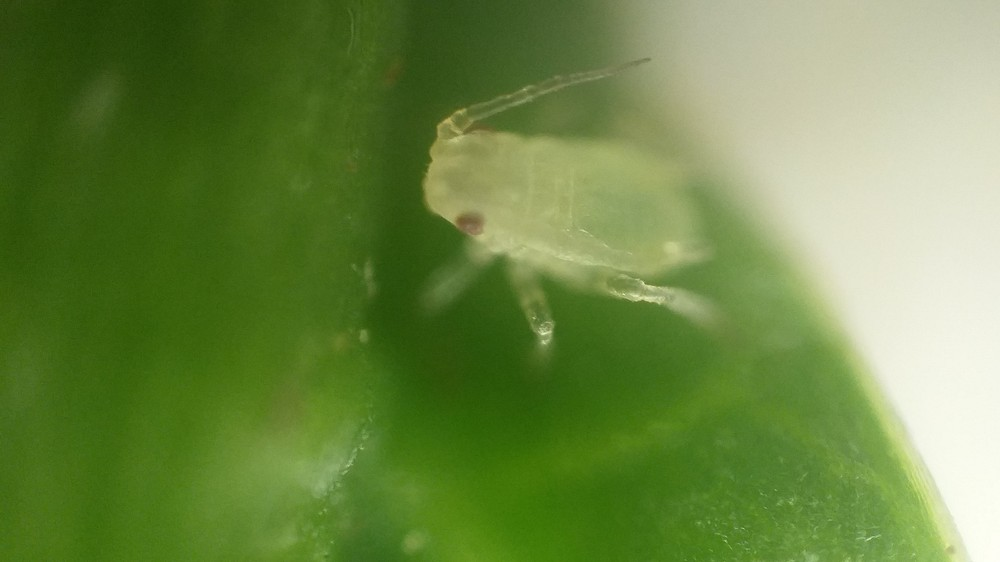Pulgon: (377, 57, 764, 397)
